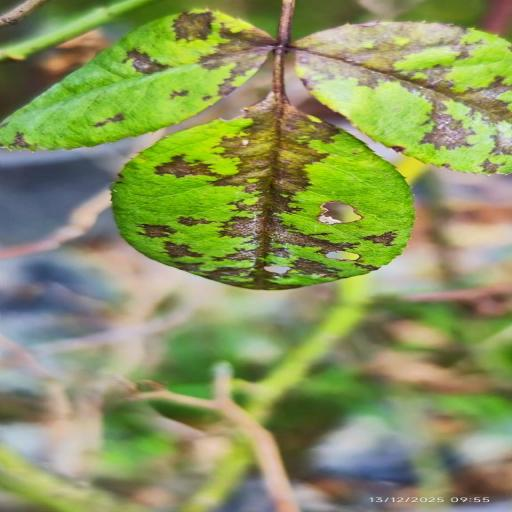black_spot: (114, 94, 412, 289), (0, 10, 274, 150), (291, 22, 511, 174)
